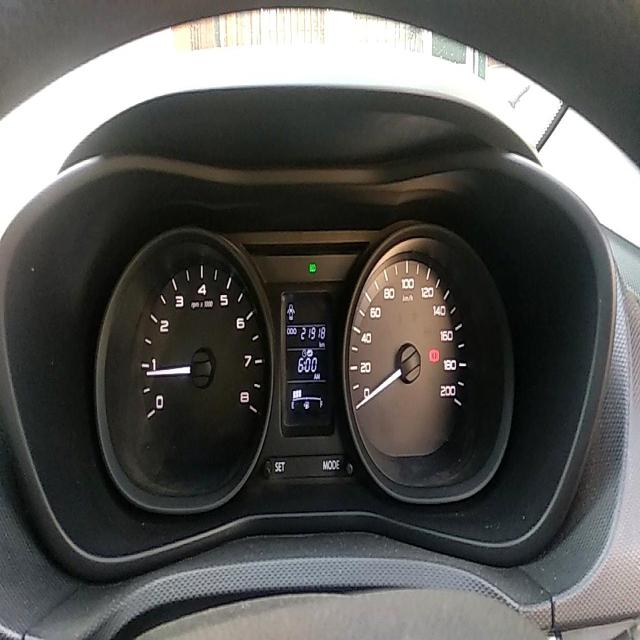odometer: (297, 323, 329, 342)
